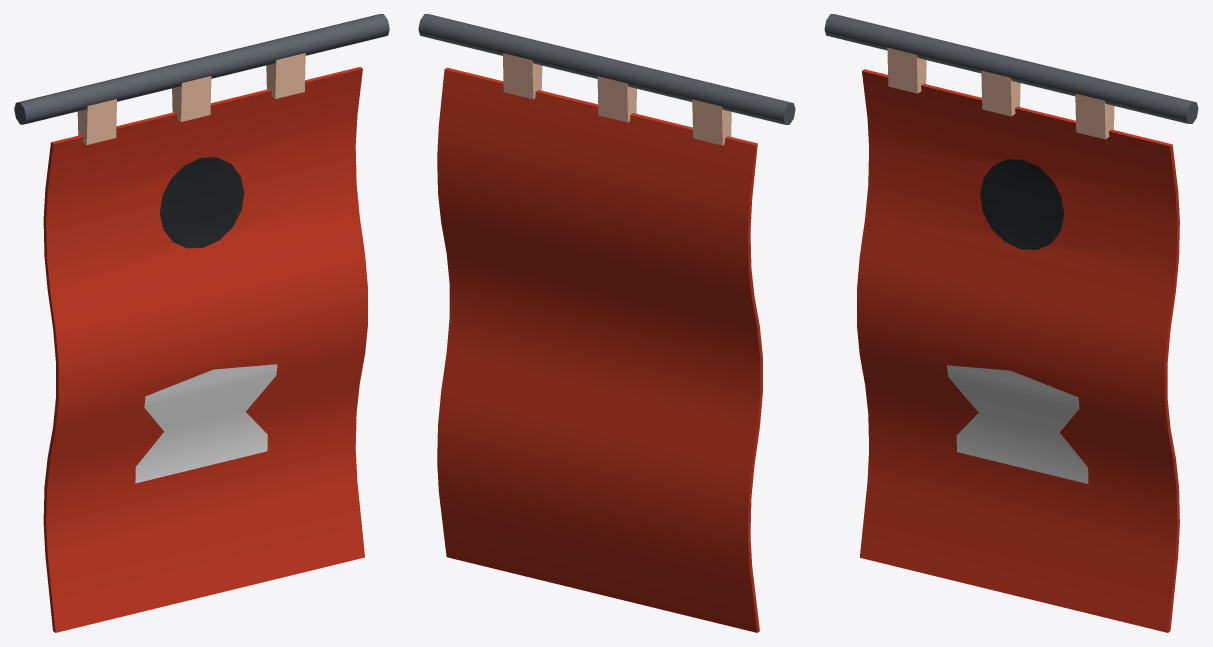
The model's file is Sign_3.fbx.
3 views of the same model, side by side, from view 1: azimuth 30°, elevation 25°; view 2: azimuth 150°, elevation 25°; view 3: azimuth 330°, elevation 25° (orthographic).
Visible parts, largest first — view 1: Sign_3; view 2: Sign_3; view 3: Sign_3.
Part boxes in pixels (<box>): Sign_3: <box>14,14,389,632</box>; Sign_3: <box>418,14,795,632</box>; Sign_3: <box>824,14,1198,632</box>.
Size of the model in its own units: 90.42 by 127 by 6.57.
